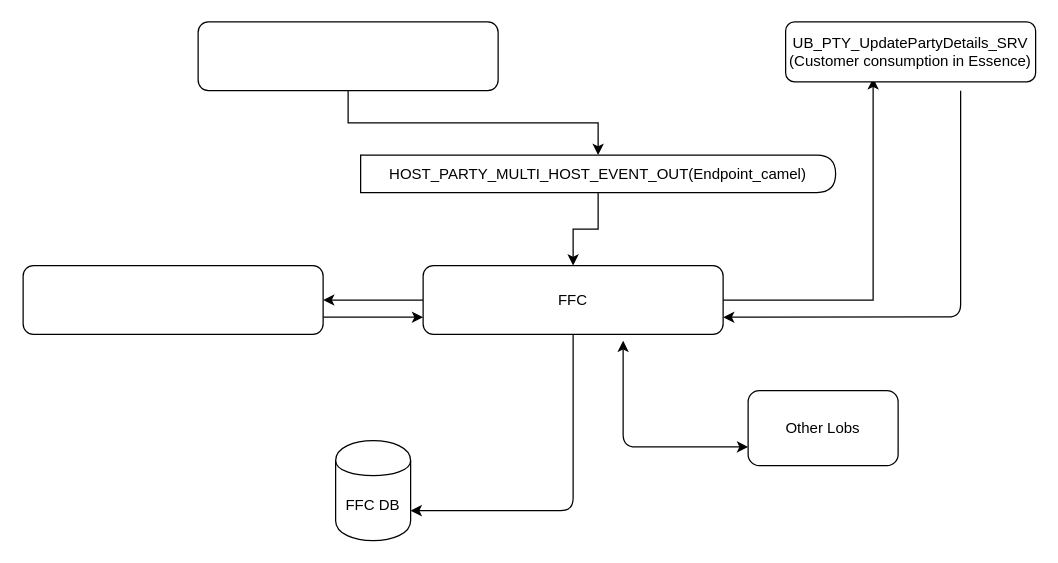
Image size: 1058x563. Some labels were removed from this diagram. Here are the shapes that lost their labels. From the top down, the box of each, then its label:
(197, 21, 498, 91): PT_PAM_PartyEventConsumption_SRV (Pushes party message to queue)
(22, 264, 323, 334): PT_PFN_FetchPartyFullPayloadWS_SRVWS (Party webservice)
